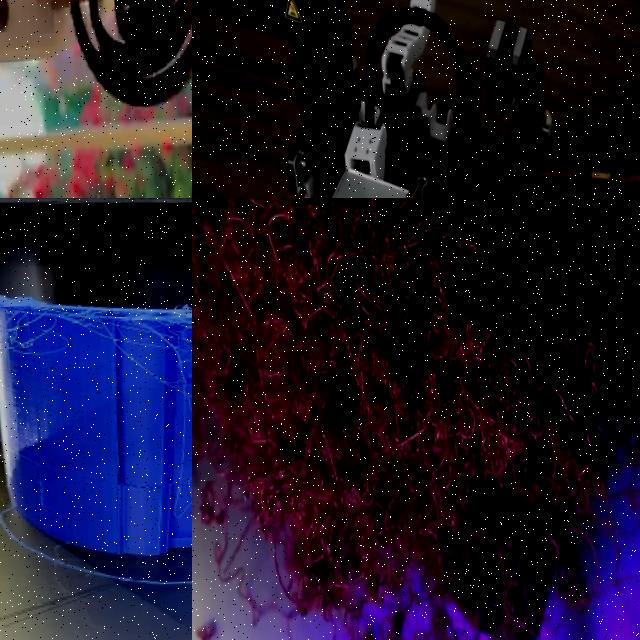spaghetti: (192, 198, 640, 640), (0, 246, 192, 420), (336, 591, 485, 640)
